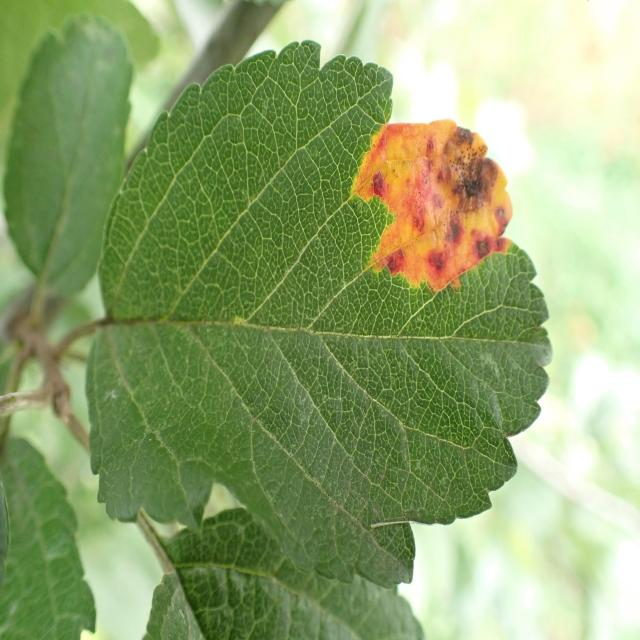Rust: (350, 93, 524, 328)
